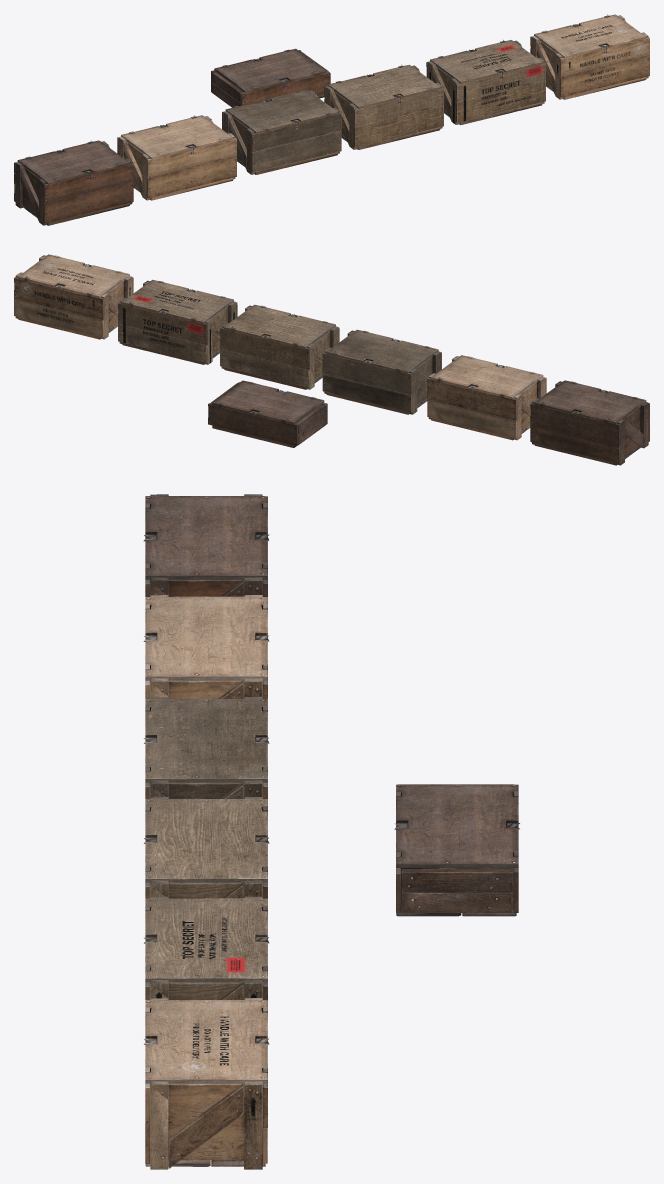
The model's file is secure-crates.glb.
3 renders of one model, top to bottom at view 1: azimuth 30°, elevation 25°; view 2: azimuth 150°, elevation 25°; view 3: azimuth 270°, elevation 25°, orthographic. The views are drawn at different scales.
Parts seen in each view (by area): view 1: Secure Box Crate Type A Wood 01_0, Secure Box Crate Type A Wood 02_2, Secure Box Crate Type A HandewithCare_5, Secure Box Crate Type A Wood 01 ALT_1, Secure Box Crate Type A Wood 03_3, Secure Box Crate Type A Top Secret_4, Secure Box Crate Type Short_6; view 2: Secure Box Crate Type A Wood 01_0, Secure Box Crate Type A Wood 02_2, Secure Box Crate Type A HandewithCare_5, Secure Box Crate Type A Wood 01 ALT_1, Secure Box Crate Type A Wood 03_3, Secure Box Crate Type A Top Secret_4, Secure Box Crate Type Short_6; view 3: Secure Box Crate Type A HandewithCare_5, Secure Box Crate Type Short_6, Secure Box Crate Type A Wood 01 ALT_1, Secure Box Crate Type A Top Secret_4, Secure Box Crate Type A Wood 01_0, Secure Box Crate Type A Wood 02_2, Secure Box Crate Type A Wood 03_3.
Boxes of the visible parts, box(x1,y1,x2,y2) form: Secure Box Crate Type A Wood 01_0: box(14, 140, 133, 225); Secure Box Crate Type A Wood 02_2: box(222, 89, 341, 174); Secure Box Crate Type A HandewithCare_5: box(530, 14, 649, 99); Secure Box Crate Type A Wood 01 ALT_1: box(117, 115, 236, 200); Secure Box Crate Type A Wood 03_3: box(324, 64, 443, 149); Secure Box Crate Type A Top Secret_4: box(426, 40, 545, 125); Secure Box Crate Type Short_6: box(211, 48, 330, 107); Secure Box Crate Type A Wood 01_0: box(530, 380, 649, 465); Secure Box Crate Type A Wood 02_2: box(322, 329, 441, 414); Secure Box Crate Type A HandewithCare_5: box(14, 254, 133, 339); Secure Box Crate Type A Wood 01 ALT_1: box(427, 355, 546, 440); Secure Box Crate Type A Wood 03_3: box(220, 304, 339, 389); Secure Box Crate Type A Top Secret_4: box(118, 279, 237, 364); Secure Box Crate Type Short_6: box(208, 380, 327, 447); Secure Box Crate Type A HandewithCare_5: box(144, 998, 269, 1169); Secure Box Crate Type Short_6: box(394, 784, 519, 916); Secure Box Crate Type A Wood 01 ALT_1: box(143, 595, 269, 698); Secure Box Crate Type A Top Secret_4: box(144, 896, 269, 1000); Secure Box Crate Type A Wood 01_0: box(143, 494, 269, 596); Secure Box Crate Type A Wood 02_2: box(144, 697, 269, 798); Secure Box Crate Type A Wood 03_3: box(144, 797, 269, 898).
Bounding box in the file's own units: 8.68 × 0.6322 × 2.34.
6 materials, 6 textured.
